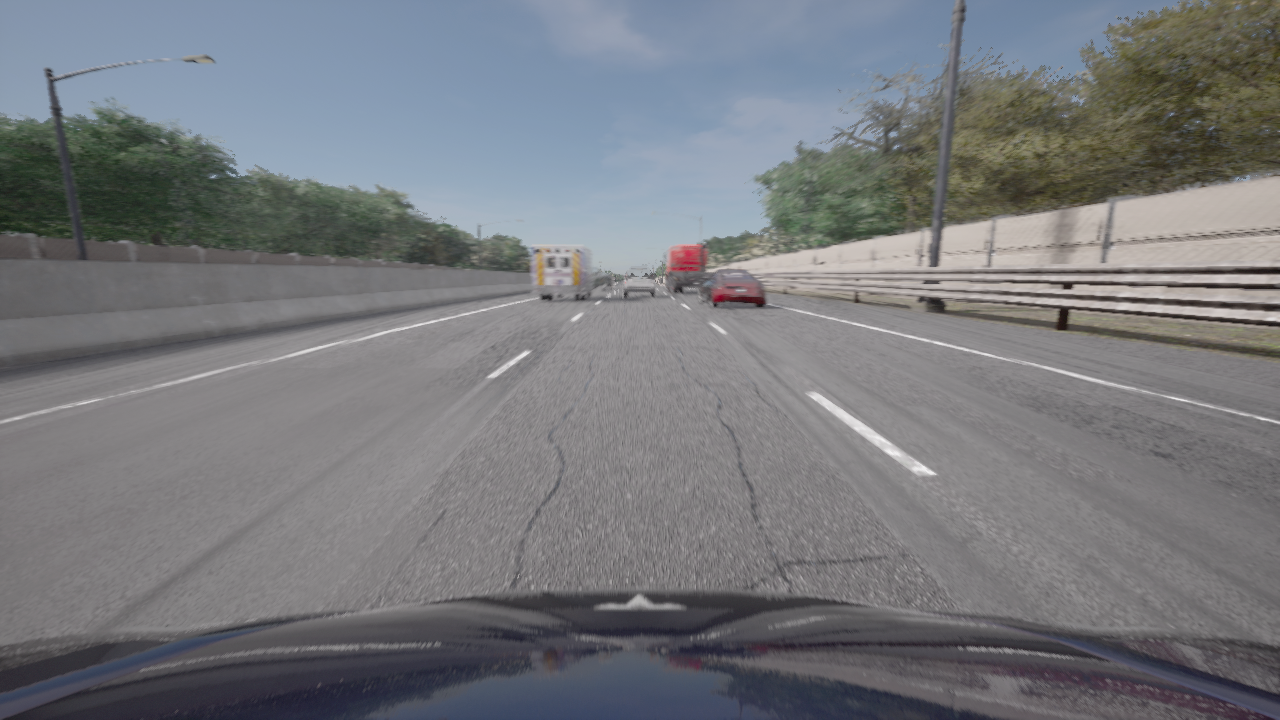cyclist: (0, 588, 1279, 719), (531, 245, 597, 299), (698, 269, 765, 307), (663, 243, 712, 293), (623, 267, 655, 297), (593, 273, 614, 288), (592, 271, 606, 290)
